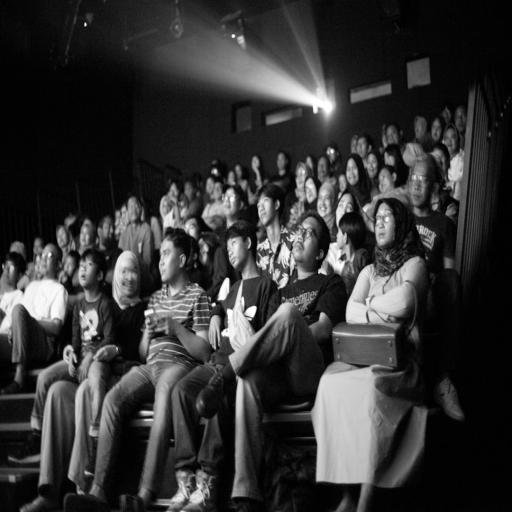face: (293, 217, 319, 266), (159, 239, 185, 284), (409, 163, 433, 208), (374, 203, 396, 249), (227, 237, 248, 270), (120, 261, 139, 297), (79, 259, 100, 289), (257, 196, 278, 226), (337, 195, 354, 223), (317, 190, 334, 218), (444, 127, 459, 157), (127, 196, 141, 223), (379, 168, 394, 193), (346, 158, 359, 186), (184, 219, 200, 240), (317, 156, 329, 182), (357, 137, 371, 159), (305, 180, 317, 204), (367, 153, 378, 179), (64, 256, 77, 277), (386, 125, 400, 144), (431, 119, 442, 142), (57, 227, 69, 248)
